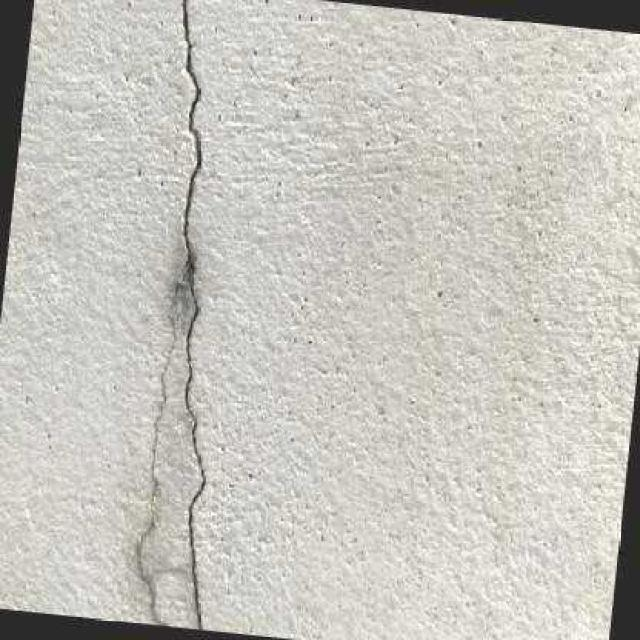D00: (180, 0, 204, 629)
